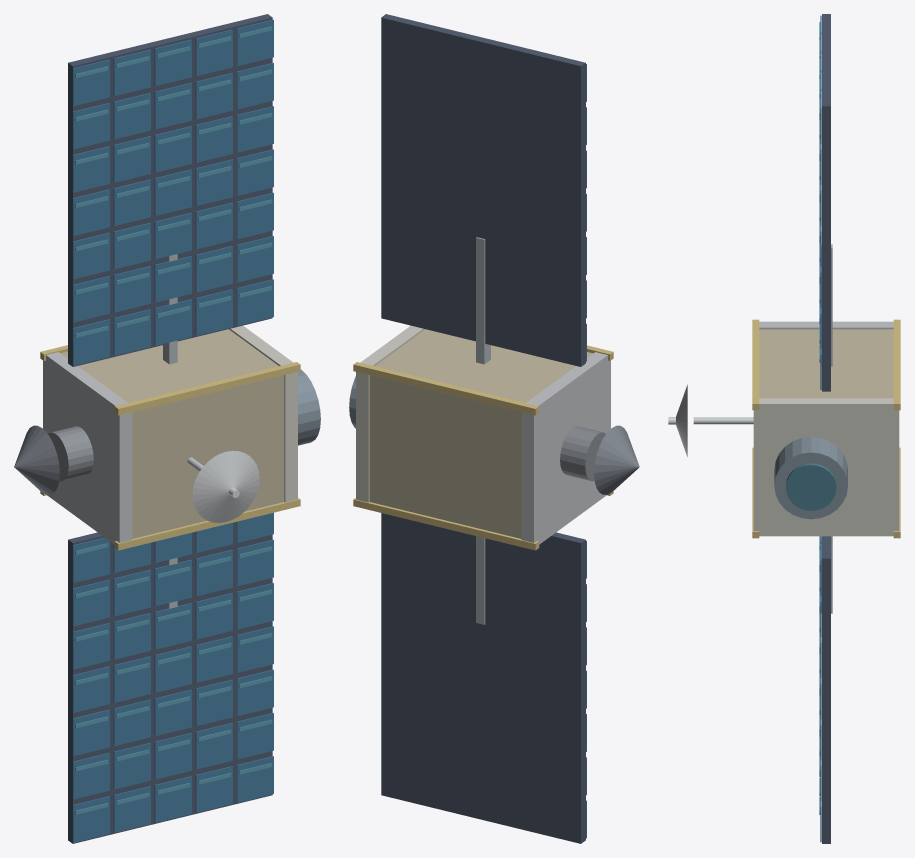
File: missionops_satellite.glb
The picture shows the model from 3 angles, left to right: view 1: azimuth 30°, elevation 25°; view 2: azimuth 150°, elevation 25°; view 3: azimuth 270°, elevation 25°; orthographic projection. The views are drawn at different scales.
Parts seen in each view (by area): view 1: bus_thermal_blanket, solar_panel_1, solar_panel_-1, bus_back, antenna_dish, bus_front, nozzle_bell, bus_rail_0.92_0.92, thruster_body, bus_rail_-0.92_0.92, front_sensor, cell_1_0_3 (+69 smaller); view 2: solar_panel_1, solar_panel_-1, bus_thermal_blanket, bus_back, bus_front, nozzle_bell, bus_rail_0.92_-0.92, thruster_body, bus_rail_-0.92_-0.92, solar_boom_1, solar_boom_-1; view 3: bus_front, bus_thermal_blanket, solar_panel_1, front_sensor, solar_panel_-1, front_lens, bus_back, bus_rail_0.92_-0.92, bus_rail_0.92_0.92, antenna_dish, antenna_mast.
Boxes of the visible parts, x1=… form: bus_thermal_blanket: x1=61, y1=329, x2=284, y2=538; solar_panel_1: x1=68, y1=14, x2=272, y2=366; solar_panel_-1: x1=68, y1=521, x2=272, y2=843; bus_back: x1=43, y1=352, x2=132, y2=544; antenna_dish: x1=192, y1=450, x2=259, y2=522; bus_front: x1=229, y1=325, x2=297, y2=502; nozzle_bell: x1=14, y1=425, x2=59, y2=494; bus_rail_0.92_0.92: x1=114, y1=362, x2=300, y2=415; thruster_body: x1=48, y1=426, x2=93, y2=481; bus_rail_-0.92_0.92: x1=114, y1=498, x2=300, y2=550; front_sensor: x1=298, y1=369, x2=320, y2=445; cell_1_0_3: x1=72, y1=189, x2=109, y2=235; solar_panel_1: x1=381, y1=14, x2=585, y2=366; solar_panel_-1: x1=381, y1=513, x2=585, y2=843; bus_thermal_blanket: x1=369, y1=329, x2=592, y2=538; bus_back: x1=521, y1=352, x2=610, y2=544; bus_front: x1=356, y1=325, x2=424, y2=502; nozzle_bell: x1=594, y1=425, x2=639, y2=494; bus_rail_0.92_-0.92: x1=353, y1=362, x2=539, y2=415; thruster_body: x1=560, y1=426, x2=605, y2=481; bus_rail_-0.92_-0.92: x1=353, y1=498, x2=539, y2=550; solar_boom_1: x1=476, y1=237, x2=490, y2=364; solar_boom_-1: x1=476, y1=536, x2=485, y2=624; bus_front: x1=753, y1=398, x2=899, y2=536; bus_thermal_blanket: x1=759, y1=329, x2=893, y2=398; solar_panel_1: x1=822, y1=14, x2=830, y2=391; front_sensor: x1=774, y1=437, x2=847, y2=519; solar_panel_-1: x1=822, y1=536, x2=830, y2=843; front_lens: x1=786, y1=463, x2=836, y2=510; bus_back: x1=759, y1=321, x2=893, y2=329; bus_rail_0.92_-0.92: x1=893, y1=319, x2=900, y2=410; bus_rail_0.92_0.92: x1=752, y1=319, x2=759, y2=410; antenna_dish: x1=676, y1=384, x2=687, y2=456; antenna_mast: x1=693, y1=417, x2=753, y2=424.
Bounding box in the file's own units: 4.05 × 10.6 × 3.03.
